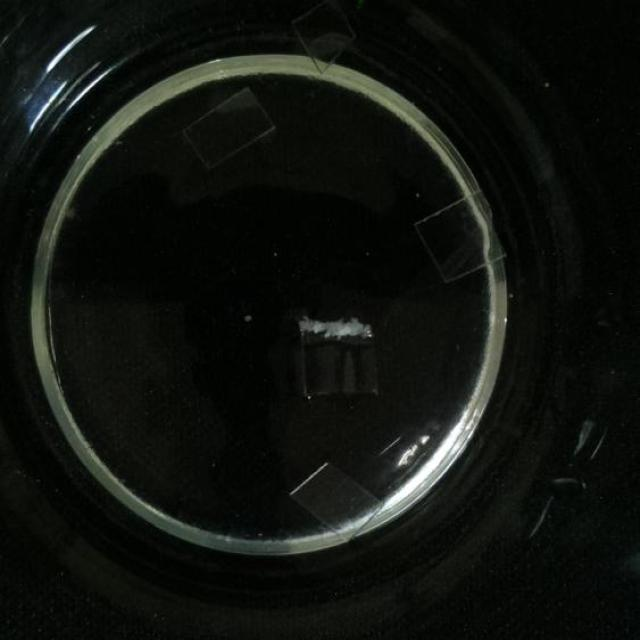fiber: (287, 460, 383, 544), (414, 196, 508, 278), (177, 92, 274, 162), (301, 314, 380, 398), (293, 1, 353, 77), (61, 198, 78, 223), (244, 313, 255, 324)
